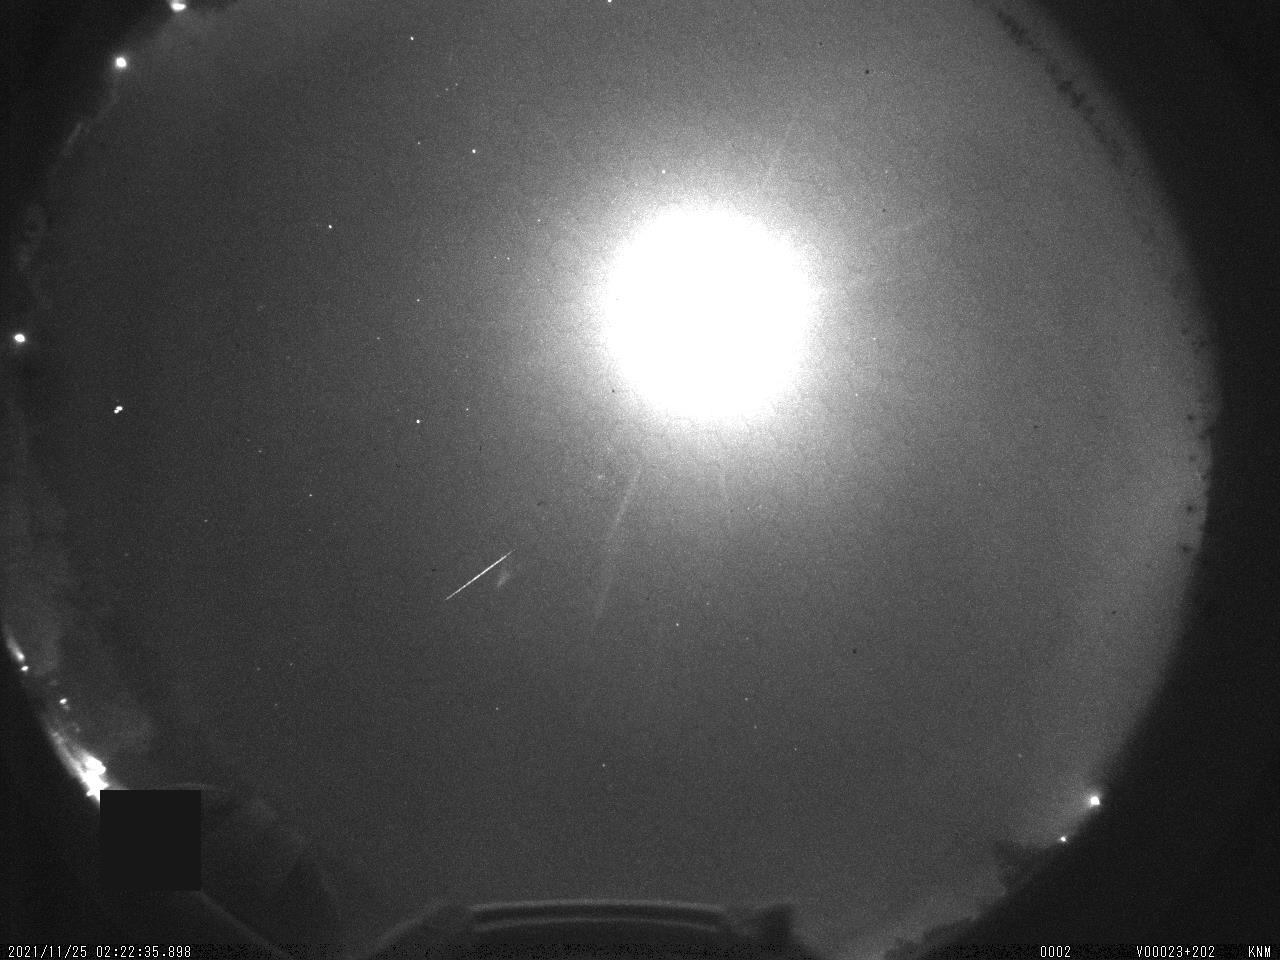meteor: (395, 526, 541, 613)
